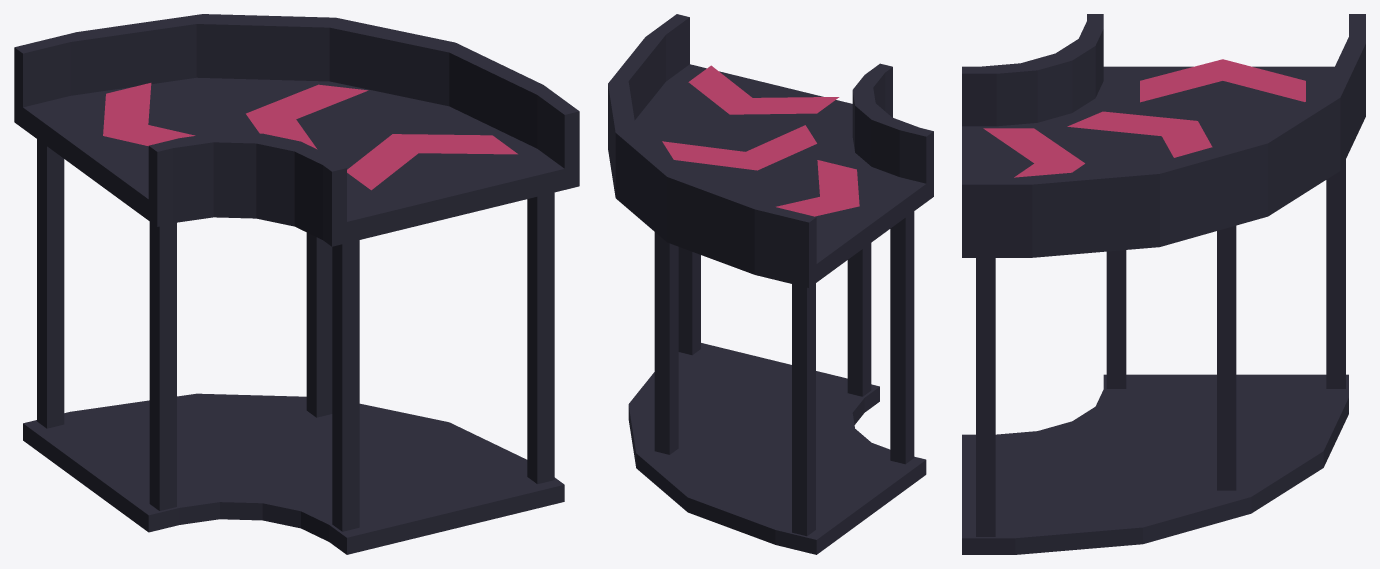
Rendered from conv-left.glb.
3 renders of one model, left to right at view 1: azimuth 30°, elevation 25°; view 2: azimuth 150°, elevation 25°; view 3: azimuth 270°, elevation 25°, orthographic. The views are drawn at different scales.
Parts seen in each view (by area): view 1: conv-left; view 2: conv-left; view 3: conv-left.
Boxes of the visible parts, <box> form: conv-left: <box>14,14,579,554</box>; conv-left: <box>608,14,933,554</box>; conv-left: <box>962,14,1365,554</box>.
Bounding box in the file's own units: 0.764 × 0.7882 × 0.764.
Materials: 1 (1 with a texture image).
